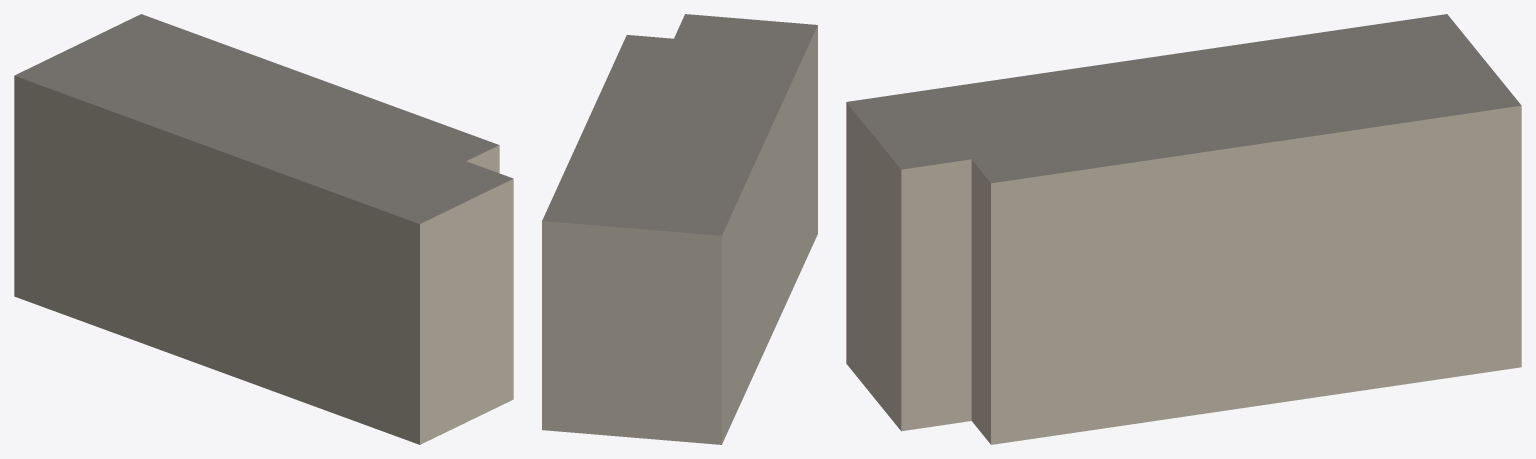
3 renders of one model, left to right at view 1: azimuth 30°, elevation 25°; view 2: azimuth 150°, elevation 25°; view 3: azimuth 270°, elevation 25°, orthographic. The views are drawn at different scales.
Parts seen in each view (by area): view 1: HP-w378107185; view 2: HP-w378107185; view 3: HP-w378107185.
Boxes of the visible parts, left/top/right/bottom form: HP-w378107185: left=14, top=14, right=513, bottom=444; HP-w378107185: left=542, top=14, right=817, bottom=444; HP-w378107185: left=846, top=14, right=1521, bottom=444.
Size of the model in its own units: 16.66 by 12 by 28.07.
